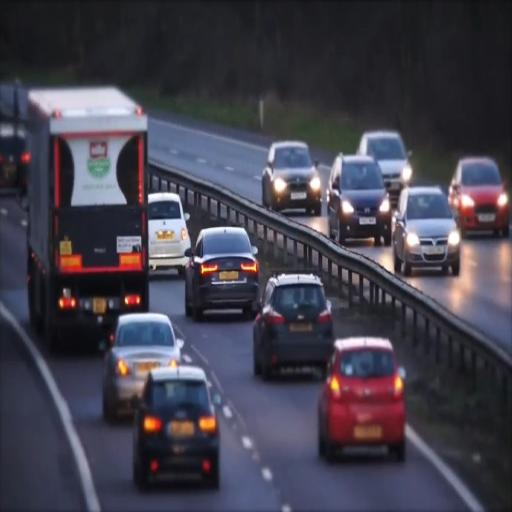car: (317, 336, 408, 465), (131, 364, 221, 490), (252, 271, 335, 382), (102, 312, 184, 422), (184, 226, 262, 321), (390, 186, 460, 276), (325, 153, 391, 247), (448, 156, 511, 238), (261, 141, 321, 218), (357, 130, 413, 209), (146, 192, 192, 276), (0, 125, 29, 195)
truck: (21, 73, 153, 354)
